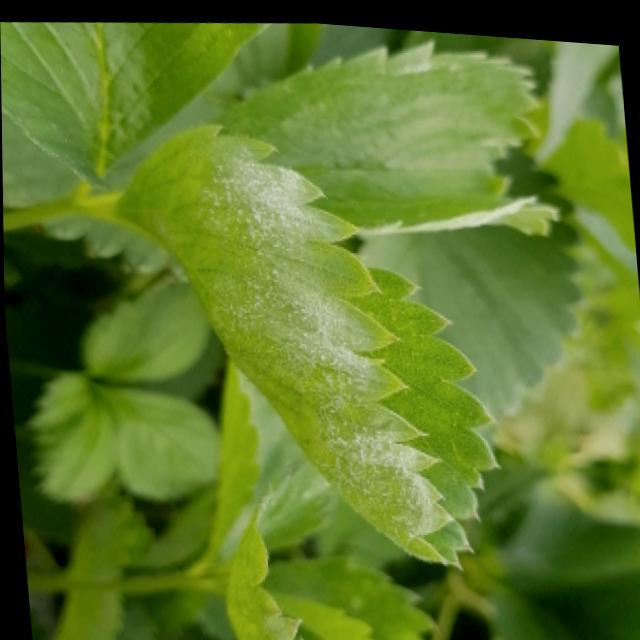Powdery Mildew Leaf: (112, 118, 505, 566), (203, 29, 565, 230)
